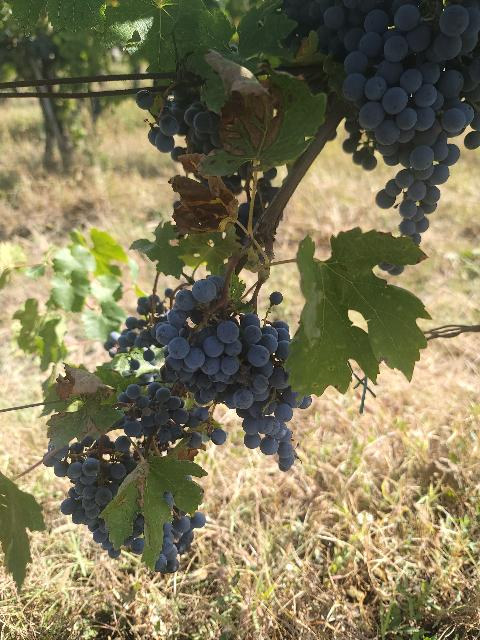grapes: (280, 0, 480, 245), (211, 312, 311, 470), (44, 430, 145, 558), (150, 275, 243, 404), (126, 382, 226, 449)
